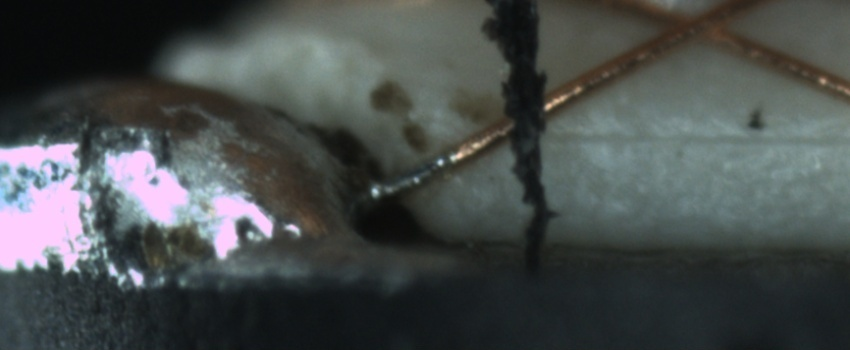CL: (654, 2, 748, 54)
DL: (538, 105, 849, 167)
TS: (370, 150, 457, 205)
TTCW: (358, 143, 469, 202)
